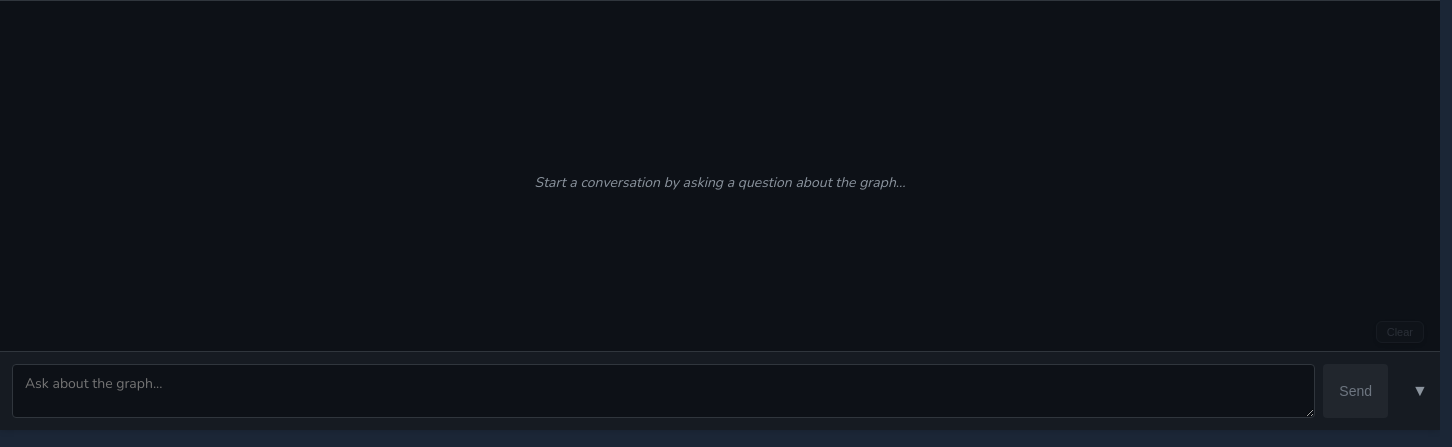
Test: ChatPanel Component › Input Integration › submit button is enabled when input has content
In the text box: (664, 391) [12,364,1315,418], type "test"
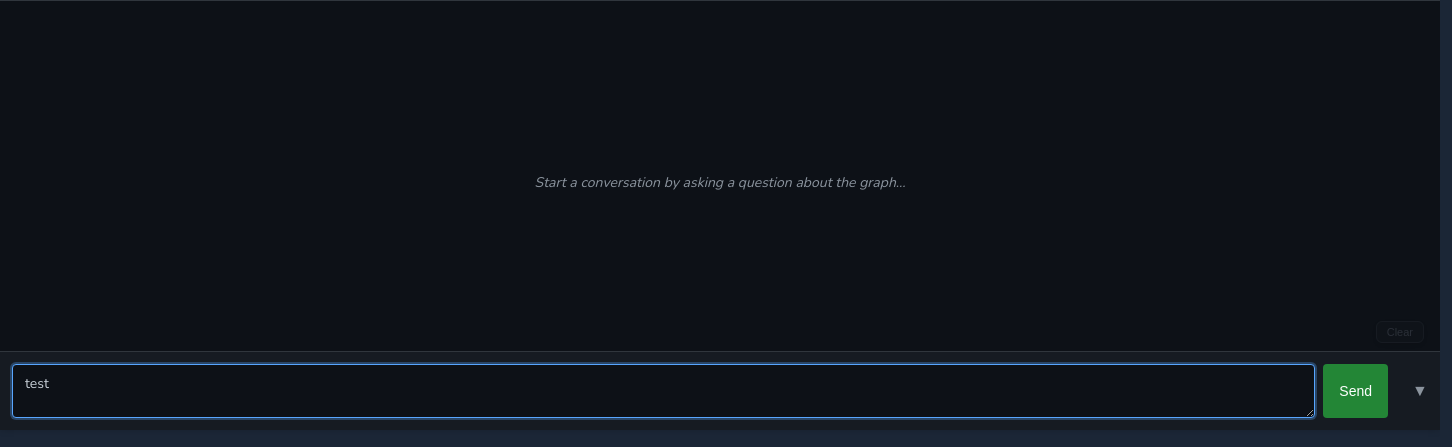
Expected: the button "Send" is enabled, [1323,364,1388,418]
